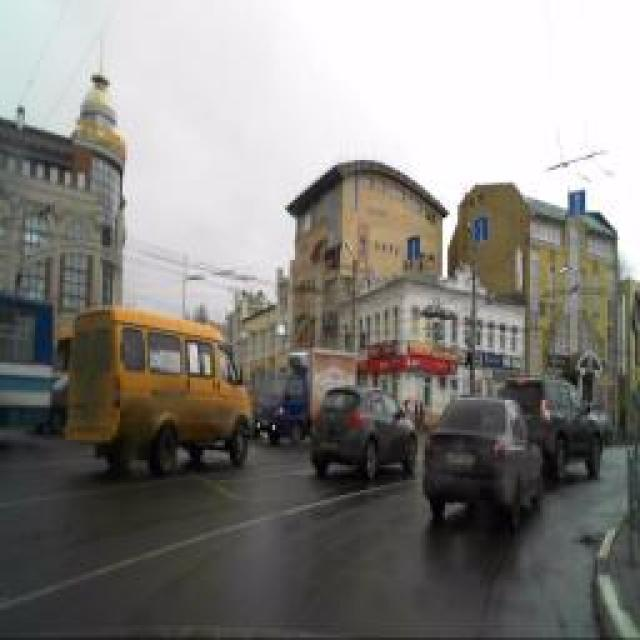sign: (569, 188, 586, 218), (474, 216, 488, 244), (408, 235, 420, 260)
